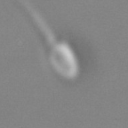normal: (20, 1, 56, 43)
